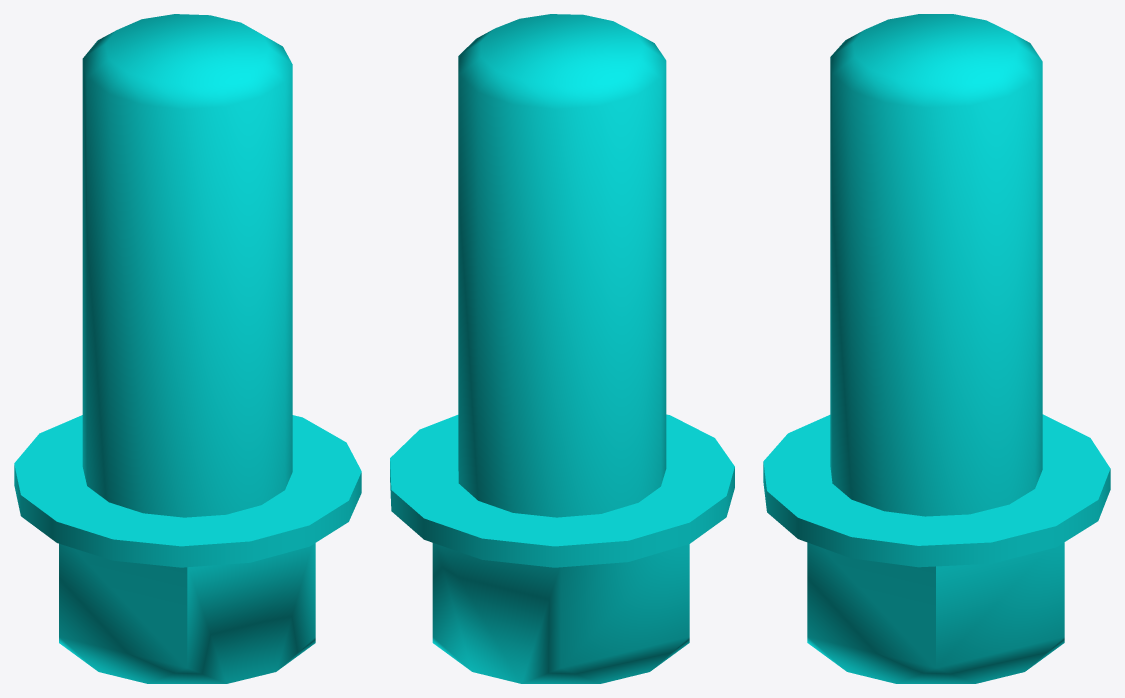
3 renders of one model, left to right at view 1: azimuth 30°, elevation 25°; view 2: azimuth 150°, elevation 25°; view 3: azimuth 270°, elevation 25°, orthographic.
Visible parts, largest first — view 1: tr014_09; view 2: tr014_09; view 3: tr014_09.
Part boxes in pixels (bbox=[...]): tr014_09: bbox=[14, 14, 361, 683]; tr014_09: bbox=[390, 14, 734, 683]; tr014_09: bbox=[763, 14, 1110, 683].
Size of the model in its own units: 3.42 by 6.37 by 3.44.
